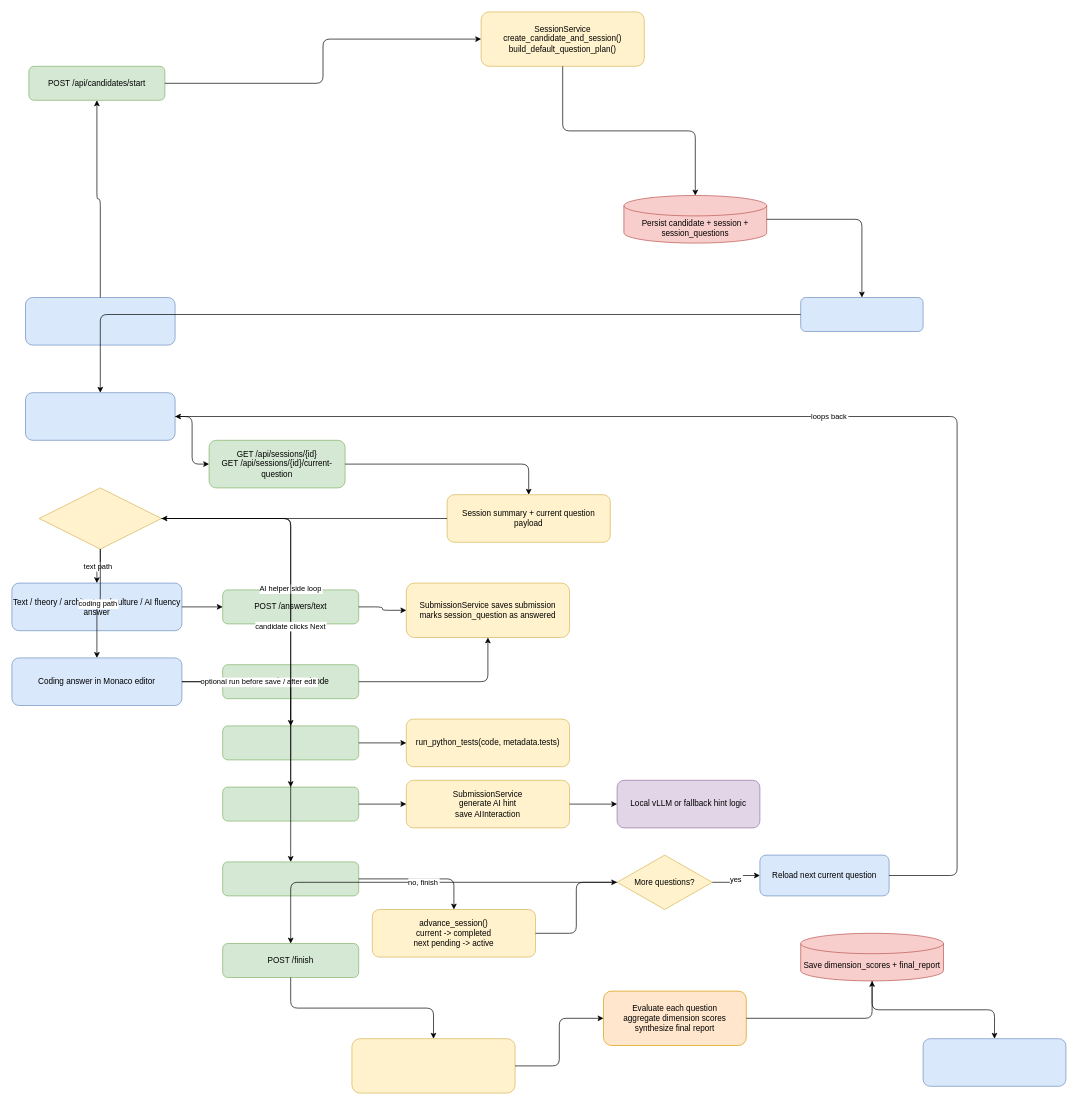
The diagram is 1078 pixels wide and 1105 high, and some of its shapes have lost their labels. The shapes that lost their labels are listed below. From the top down, each one's box as (x1, y1, x2, y2) in pixels, then its label:
(25, 297, 175, 345): Candidate enters name LandingPage -> startCandidate()
(800, 297, 923, 332): Navigate to /test/:sessionId
(25, 392, 175, 440): TestPage load getSession() + getCurrentQuestion()
(38, 487, 162, 549): Candidate answers question
(222, 725, 359, 760): POST /code/run Python only
(222, 786, 359, 821): POST /ai/chat
(222, 861, 359, 896): POST /next
(351, 1038, 515, 1093): SessionService.finish_session() set submitted call finalize_session()
(922, 1038, 1066, 1086): Navigate to /result/:sessionId optionally to /audit/:sessionId
